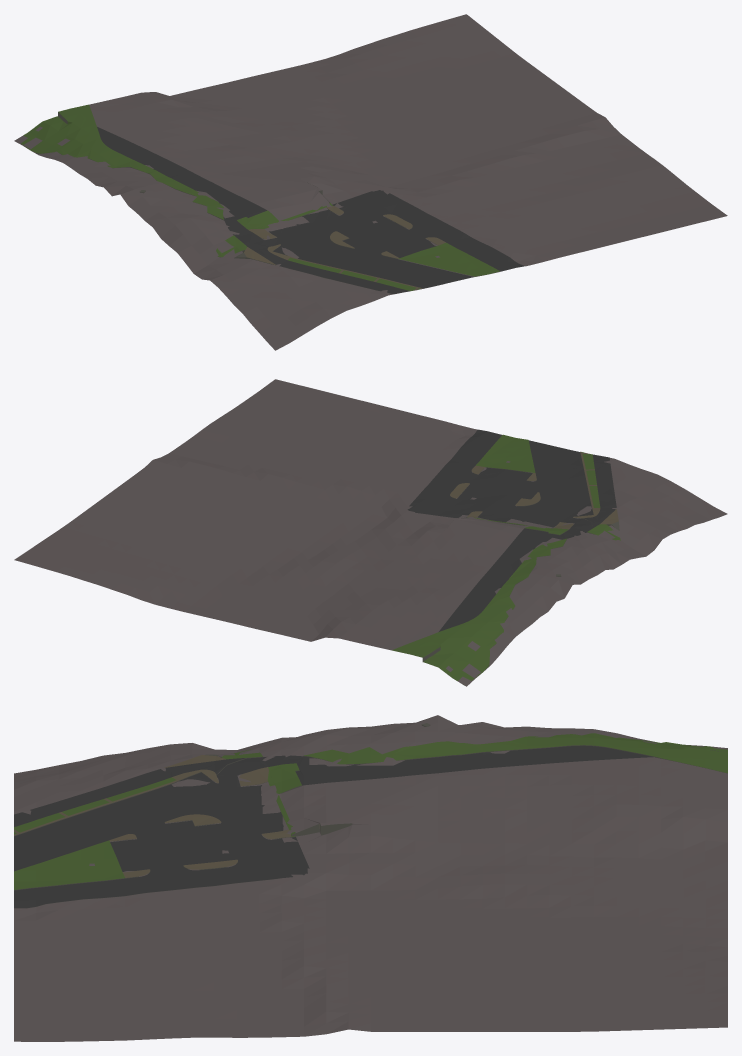
3 views of the same model, one above another, from view 1: azimuth 30°, elevation 25°; view 2: azimuth 150°, elevation 25°; view 3: azimuth 270°, elevation 25° (orthographic). The views are drawn at different scales.
Parts seen in each view (by area): view 1: c_m12_m16; view 2: c_m12_m16; view 3: c_m12_m16.
Part boxes in pixels (box(x1,y1,x2,y2)): c_m12_m16: box(14, 14, 727, 350); c_m12_m16: box(14, 379, 727, 686); c_m12_m16: box(14, 715, 727, 1041).
Size of the model in its own units: 128 by 12.11 by 128.
